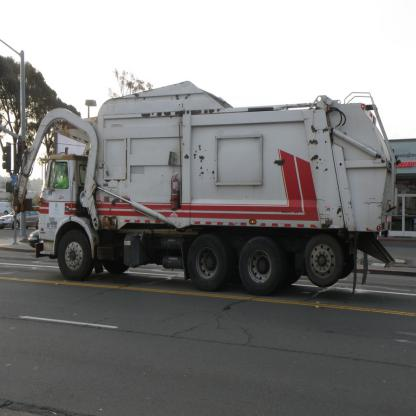Car: (0, 207, 40, 229)
Truck: (13, 80, 402, 297)
